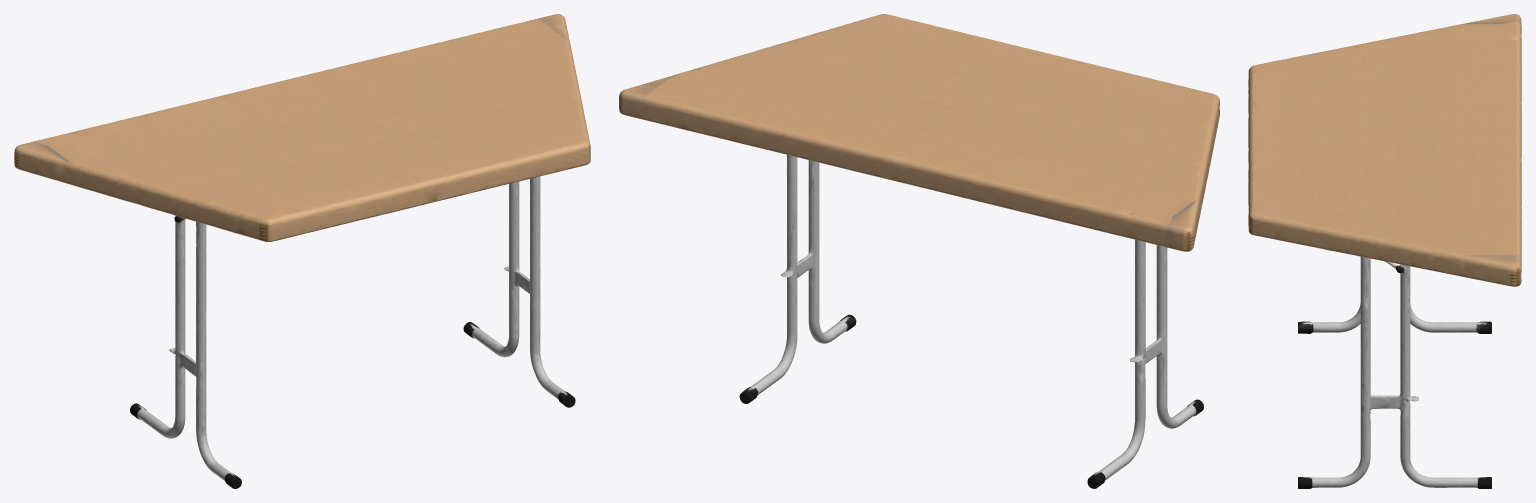
File: dalemans-tisch-trapez-low-web.glb
3 views of the same model, side by side, from view 1: azimuth 30°, elevation 25°; view 2: azimuth 150°, elevation 25°; view 3: azimuth 270°, elevation 25° (orthographic). The views are drawn at different scales.
Visible parts, largest first — view 1: Mesh_0; view 2: Mesh_0; view 3: Mesh_0.
Boxes of the visible parts, box(x1,y1,x2,y2) form: Mesh_0: box(14, 14, 590, 488); Mesh_0: box(619, 14, 1219, 488); Mesh_0: box(1248, 14, 1521, 488).
Size of the model in its own units: 1.9 by 0.9414 by 0.8585.
Materials: 1 (1 with a texture image).
